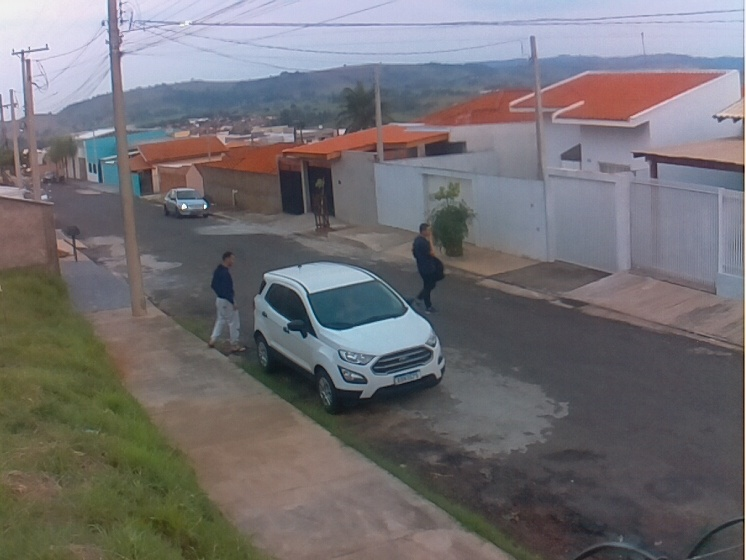person: (204, 251, 249, 354), (409, 222, 445, 315)
